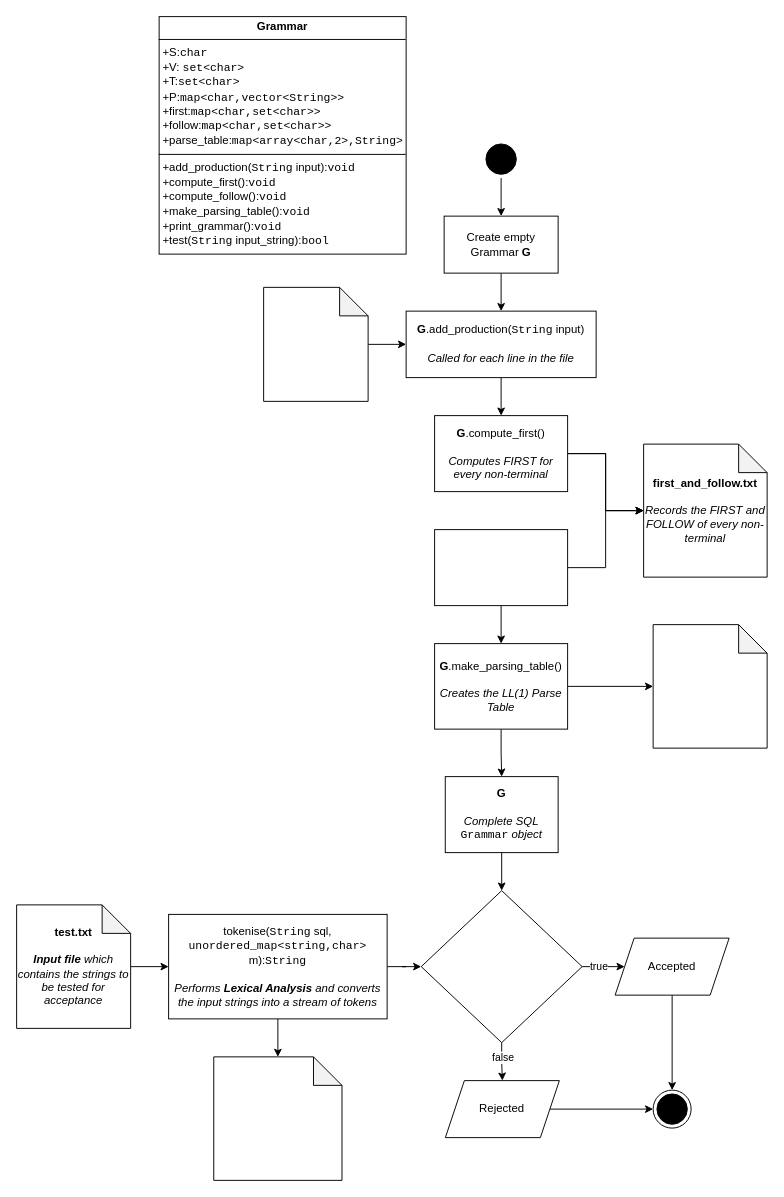
Some shapes in this 784 by 1197 pixel diagram are drawn without their labels. Here are the shapes that lost their labels. From the top down, the centre of each, then its label:
the point at 315,343: sql.txt Contains all the productions for the SQL grammar
the point at 501,567: G .compute_follow() Computes FOLLOW for every non-terminal
the point at 709,686: parse_table.txt Records the Parse Table for the SQL grammar
the point at 501,966: G. test( string input_string)
the point at 277,1118: symbol_table.txt Records the token and line number for each lexeme
